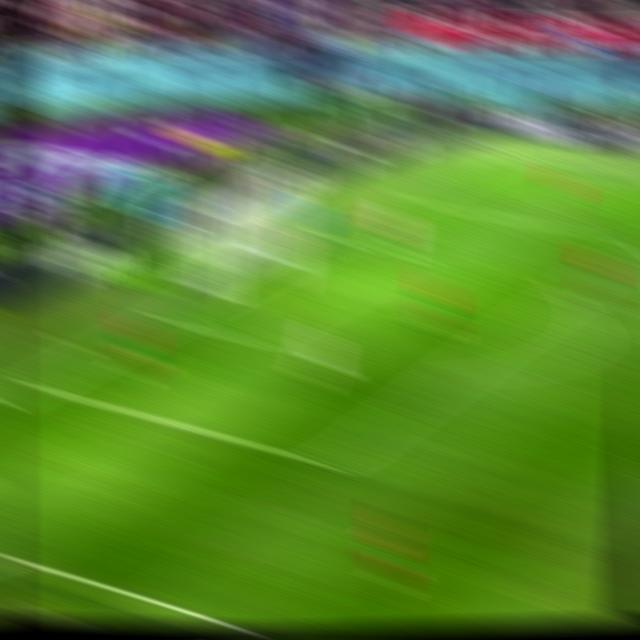bigarea_bottom_inner: (311, 447, 350, 481)
bigarea_bottom_outter: (15, 371, 51, 400)
bigarea_top_inner: (627, 226, 640, 254)
bigarea_top_outter: (394, 188, 428, 213)
bottom_arc_area_intersection: (436, 357, 474, 388)
corner: (477, 149, 513, 171)
smallarea_bottom_inner: (230, 322, 271, 355)
smallarea_bottom_outter: (150, 305, 185, 332)
smallarea_top_inner: (388, 239, 424, 269)
smallarea_top_outter: (315, 226, 350, 250)
top_arc_area_intersection: (549, 281, 586, 311)
